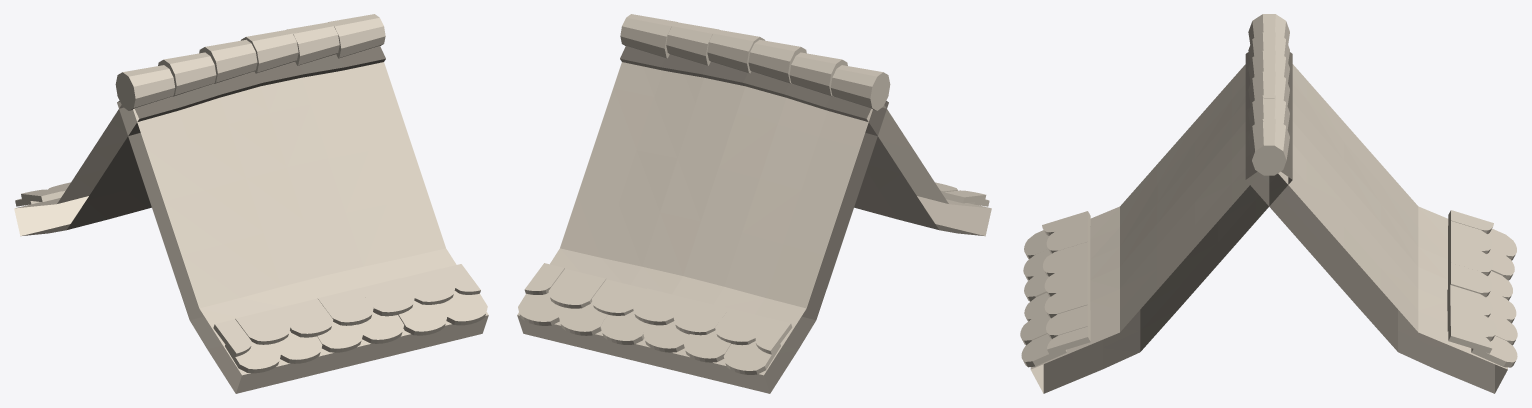
File: SM_VK_RoofS_Mid.fbx
3 renders of one model, left to right at view 1: azimuth 30°, elevation 25°; view 2: azimuth 150°, elevation 25°; view 3: azimuth 270°, elevation 25°, orthographic. The views are drawn at different scales.
Visible parts, largest first — view 1: SM_VK_RoofS_Mid.001; view 2: SM_VK_RoofS_Mid.001; view 3: SM_VK_RoofS_Mid.001.
Part boxes in pixels (x1=…): SM_VK_RoofS_Mid.001: x1=14, y1=14, x2=488, y2=393; SM_VK_RoofS_Mid.001: x1=517, y1=14, x2=991, y2=393; SM_VK_RoofS_Mid.001: x1=1020, y1=14, x2=1517, y2=393.
Size of the model in its own units: 3.06 by 2.86 by 5.
